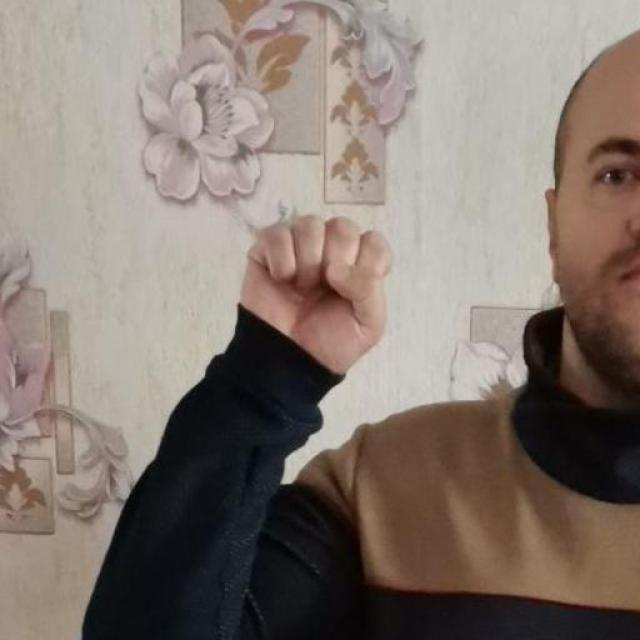hand: (238, 211, 394, 375)
